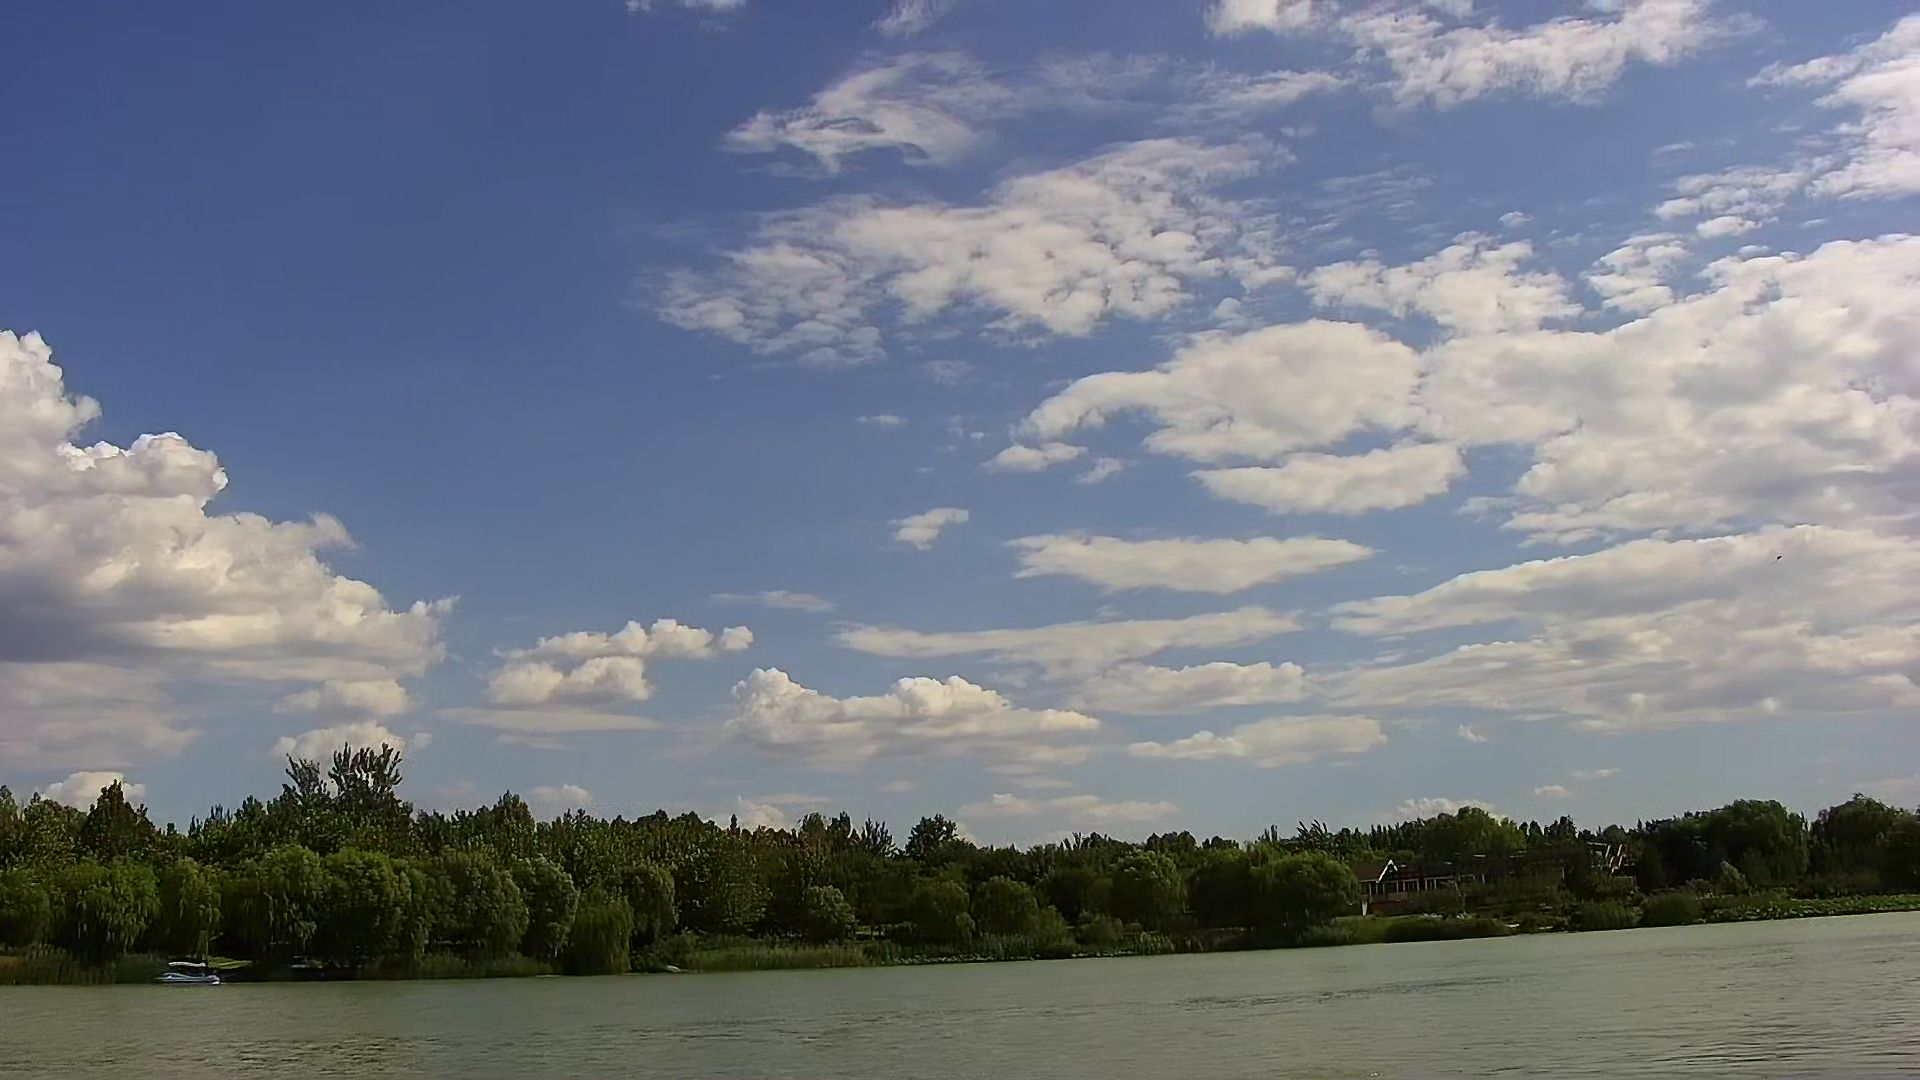boat: (149, 959, 219, 985)
